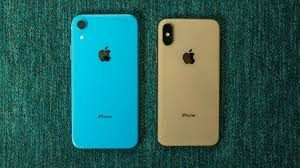iphone: (69, 12, 141, 155), (155, 15, 224, 147)
